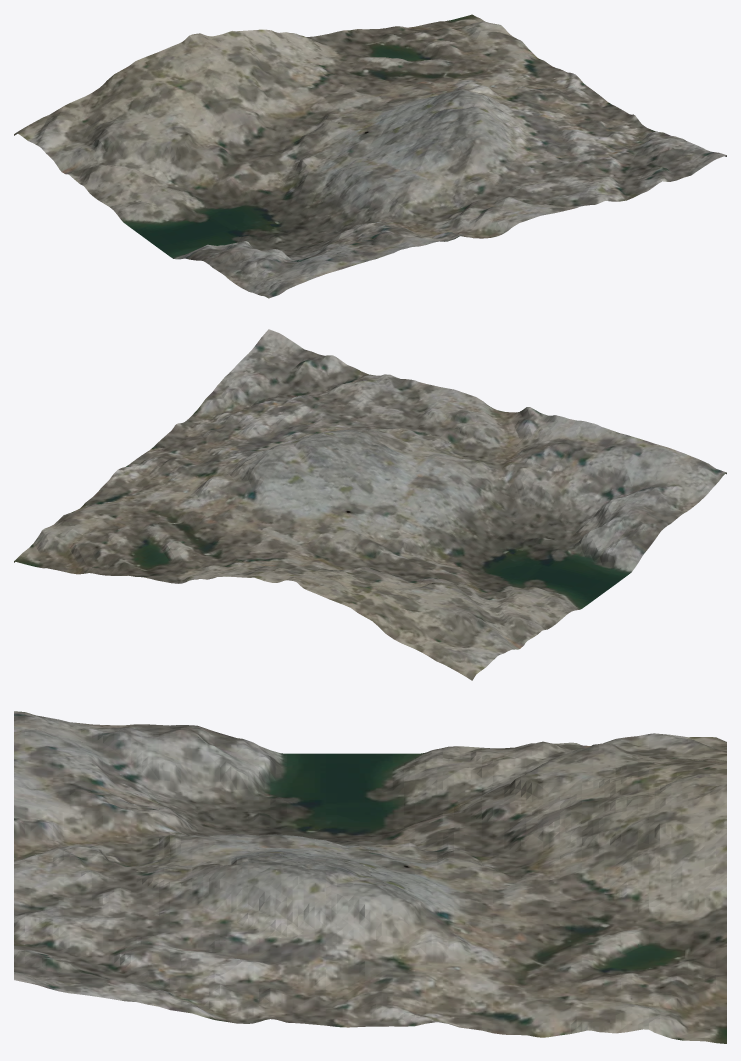
3 views of the same model, one above another, from view 1: azimuth 30°, elevation 25°; view 2: azimuth 150°, elevation 25°; view 3: azimuth 270°, elevation 25° (orthographic). The views are drawn at different scales.
Size of the model in its own units: 250 by 34.74 by 241.
Materials: 1 (1 with a texture image).
